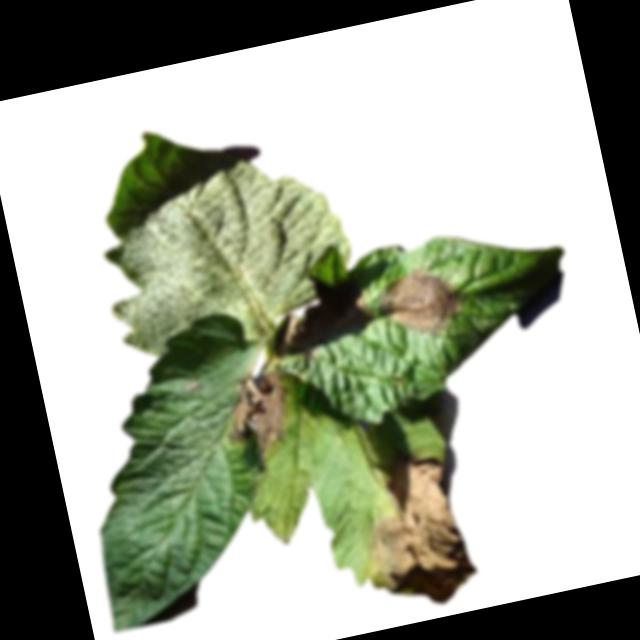Late_blight: (341, 448, 483, 619), (371, 261, 472, 346), (214, 366, 299, 461), (282, 309, 308, 345), (354, 295, 373, 318)
